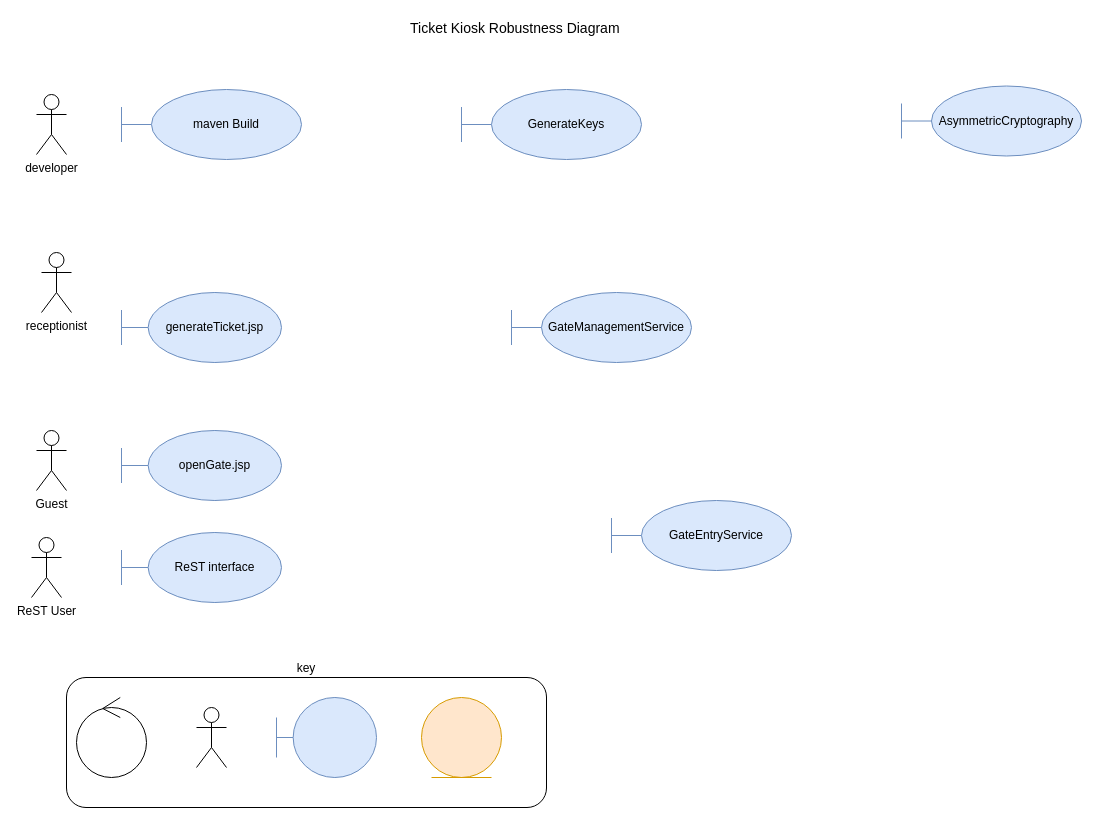
Some shapes in this 1099 by 825 pixel diagram are drawn without their labels. Here are the shapes that lost their labels. From the top down, the centre of each, then its label:
At (x=111, y=737): "Control Object".
At (x=211, y=737): "Actor".
At (x=326, y=737): "Boundary Object".
At (x=461, y=737): "Entity Object".
